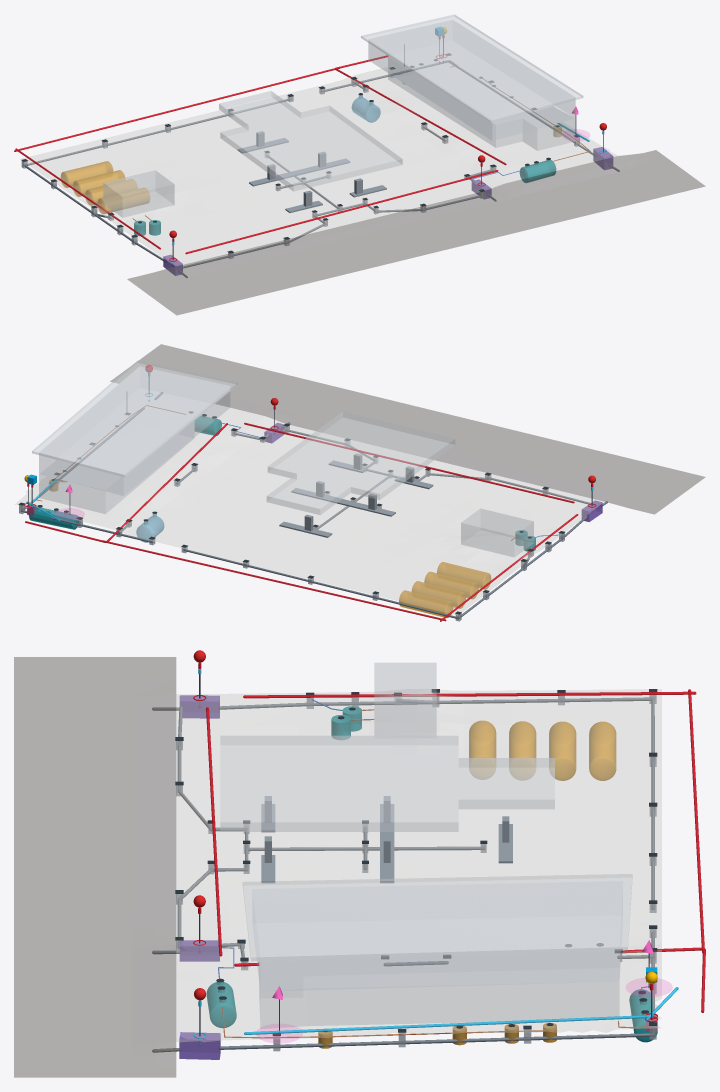
The picture shows the model from 3 angles, top to bottom: view 1: azimuth 30°, elevation 25°; view 2: azimuth 150°, elevation 25°; view 3: azimuth 270°, elevation 25°; orthographic projection. The views are drawn at different scales.
Parts seen in each view (by area): view 1: Forecourt and paving, Phun Phon Road side and entrances, Sales building roof, Sales building, upper floor and balcony, Canopy, Sales building, ground floor: toilets, two shops, mart, ATM, Office (one storey), G2.1 water route (final design) (×2), Site drain BW: back boundary (west half) and west side to th, Fuel tank T4 · 30,000 L, Fuel tank T1 · 30,000 L, Fuel tank T2 · 30,000 L (+5 smaller); view 2: Forecourt and paving, Phun Phon Road side and entrances, Sales building, upper floor and balcony, Sales building roof, Canopy, Sales building, ground floor: toilets, two shops, mart, ATM, Office (one storey), G2.1 water route (final design) (×2), Site drain BW: back boundary (west half) and west side to th, Fuel tank T1 · 30,000 L, Fuel tank T4 · 30,000 L, Fuel tank T3 · 30,000 L (+5 smaller); view 3: Forecourt and paving, Phun Phon Road side and entrances, Sales building, upper floor and balcony, Sales building roof, Canopy, Sales building, ground floor: toilets, two shops, mart, ATM, Office (one storey), G2.1 water route (final design) (×3), Site drain BW: back boundary (west half) and west side to th, Site drain BE: back boundary (east half) and east side to th, Fuel tank T1 · 30,000 L, Fuel tank T2 · 30,000 L (+10 smaller).
Boxes of the visible parts, x1,y1,x2,y2 form: Forecourt and paving: (20,67,617,266); Phun Phon Road side and entrances: (127,150,705,315); Sales building roof: (361,14,583,122); Sales building, upper floor and balcony: (368,20,575,140); Canopy: (219,91,402,191); Sales building, ground floor: toilets, two shops, mart, ATM: (388,57,575,150); Office (one storey): (103,170,174,217); G2.1 water route (final design) (×2): (14,67,498,254); Site drain BW: back boundary (west half) and west side to th: (23,98,291,262); Fuel tank T4 · 30,000 L: (97,188,149,214); Fuel tank T1 · 30,000 L: (60,161,113,187); Fuel tank T2 · 30,000 L: (73,170,125,196); Forecourt and paving: (15,404,603,615); Phun Phon Road side and entrances: (110,344,705,514); Sales building, upper floor and balcony: (39,367,229,495); Sales building roof: (32,360,237,477); Canopy: (266,411,455,514); Sales building, ground floor: toilets, two shops, mart, ATM: (39,421,194,513); Office (one storey): (461,508,533,557); G2.1 water route (final design) (×2): (102,422,574,621); Site drain BW: back boundary (west half) and west side to th: (184,516,587,619); Fuel tank T1 · 30,000 L: (399,590,453,617); Fuel tank T4 · 30,000 L: (437,562,491,589); Fuel tank T3 · 30,000 L: (424,571,478,599); Forecourt and paving: (176,689,661,1041); Phun Phon Road side and entrances: (14,657,176,1077); Sales building, upper floor and balcony: (253,881,622,991); Sales building roof: (242,874,632,961); Canopy: (220,735,554,831); Sales building, ground floor: toilets, two shops, mart, ATM: (259,951,619,1028); Office (one storey): (374,663,436,737); G2.1 water route (final design) (×3): (206,689,704,956); Site drain BW: back boundary (west half) and west side to th: (219,697,654,909); Site drain BE: back boundary (east half) and east side to th: (218,931,654,1049); Fuel tank T1 · 30,000 L: (589,721,616,780); Fuel tank T2 · 30,000 L: (549,721,576,780).
Size of the model in its own units: 84 by 10.7 by 58.39.
